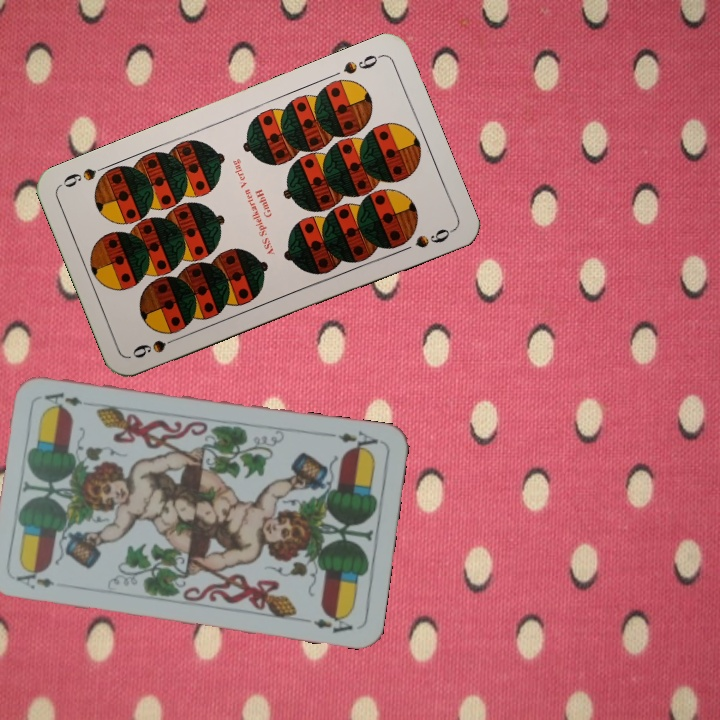EA: (334, 427, 381, 455), (12, 568, 57, 592)
S9: (128, 331, 185, 361), (339, 50, 385, 77)
